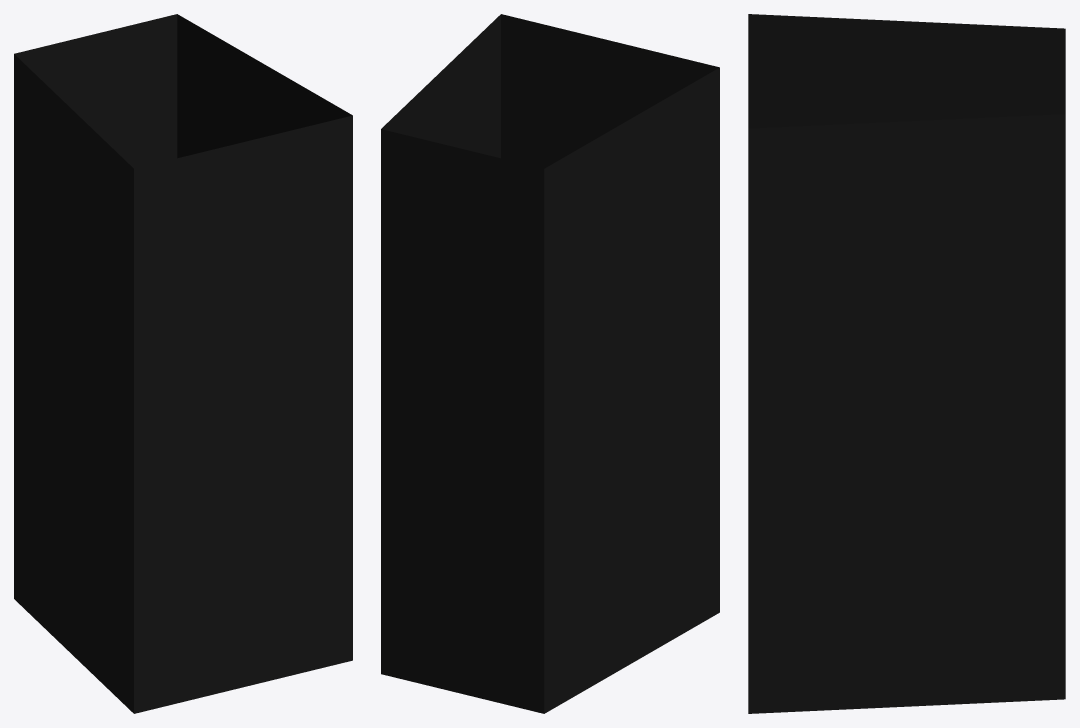
File: Itr_Obj_Speaker3_Base_02.FBX
The picture shows the model from 3 angles, left to right: view 1: azimuth 30°, elevation 25°; view 2: azimuth 150°, elevation 25°; view 3: azimuth 270°, elevation 25°; orthographic projection. The views are drawn at different scales.
Visible parts, largest first — view 1: Itr_Obj_Speaker3_Base_02; view 2: Itr_Obj_Speaker3_Base_02; view 3: Itr_Obj_Speaker3_Base_02.
Part boxes in pixels (<box>): Itr_Obj_Speaker3_Base_02: <box>14,14,352,713</box>; Itr_Obj_Speaker3_Base_02: <box>381,14,719,713</box>; Itr_Obj_Speaker3_Base_02: <box>748,14,1065,713</box>.
Bounding box in the file's own units: 9.88 × 23.51 × 11.56.
